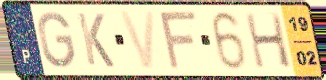6: (211, 9, 249, 73)
F: (158, 9, 200, 72)
G: (37, 10, 78, 71)
H: (242, 11, 294, 70)
K: (74, 11, 117, 70)
V: (117, 9, 157, 71)
